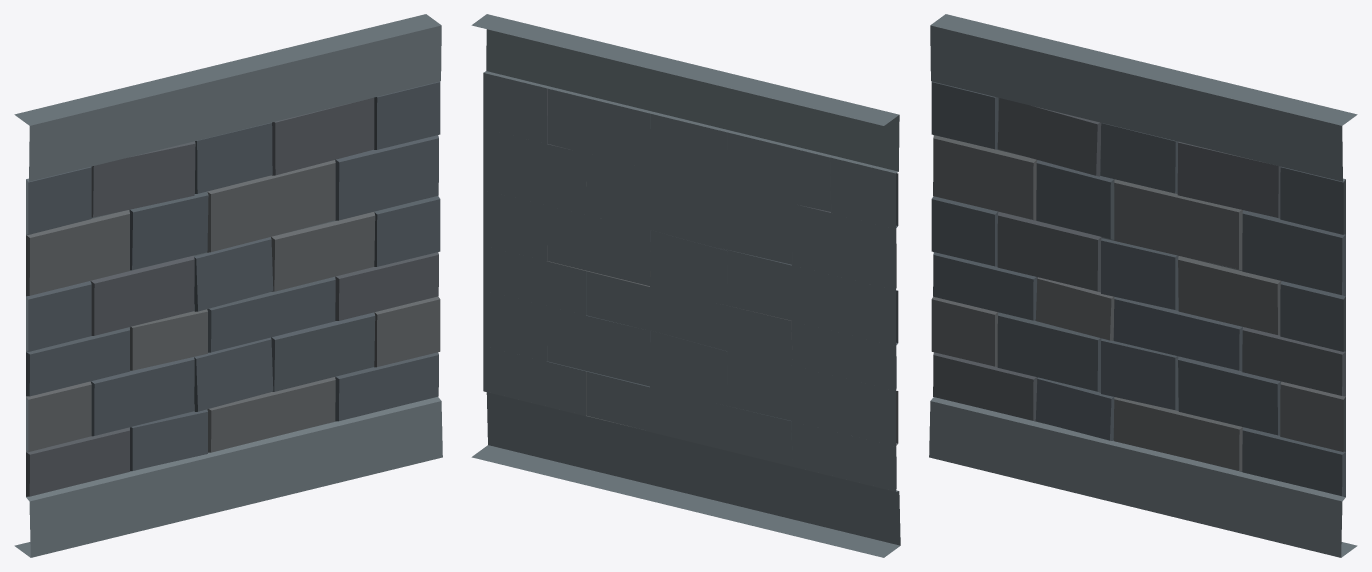
The model's file is wall_1.glb.
3 renders of one model, left to right at view 1: azimuth 30°, elevation 25°; view 2: azimuth 150°, elevation 25°; view 3: azimuth 330°, elevation 25°, orthographic.
Parts seen in each view (by area): view 1: Wall_1; view 2: Wall_1; view 3: Wall_1.
Part boxes in pixels (x1,y1,x2,y2): Wall_1: [14, 14, 442, 557]; Wall_1: [471, 14, 900, 557]; Wall_1: [929, 14, 1357, 557].
Bounding box in the file's own units: 2 × 2 × 0.1404.
Materials: 1 (1 with a texture image).
